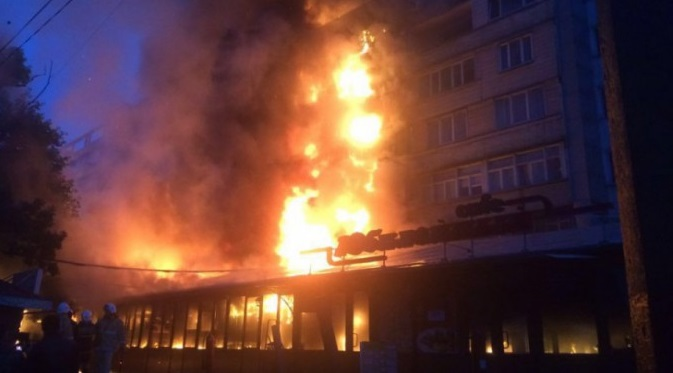Fire: (273, 81, 327, 264), (335, 51, 385, 226), (228, 294, 295, 319)
